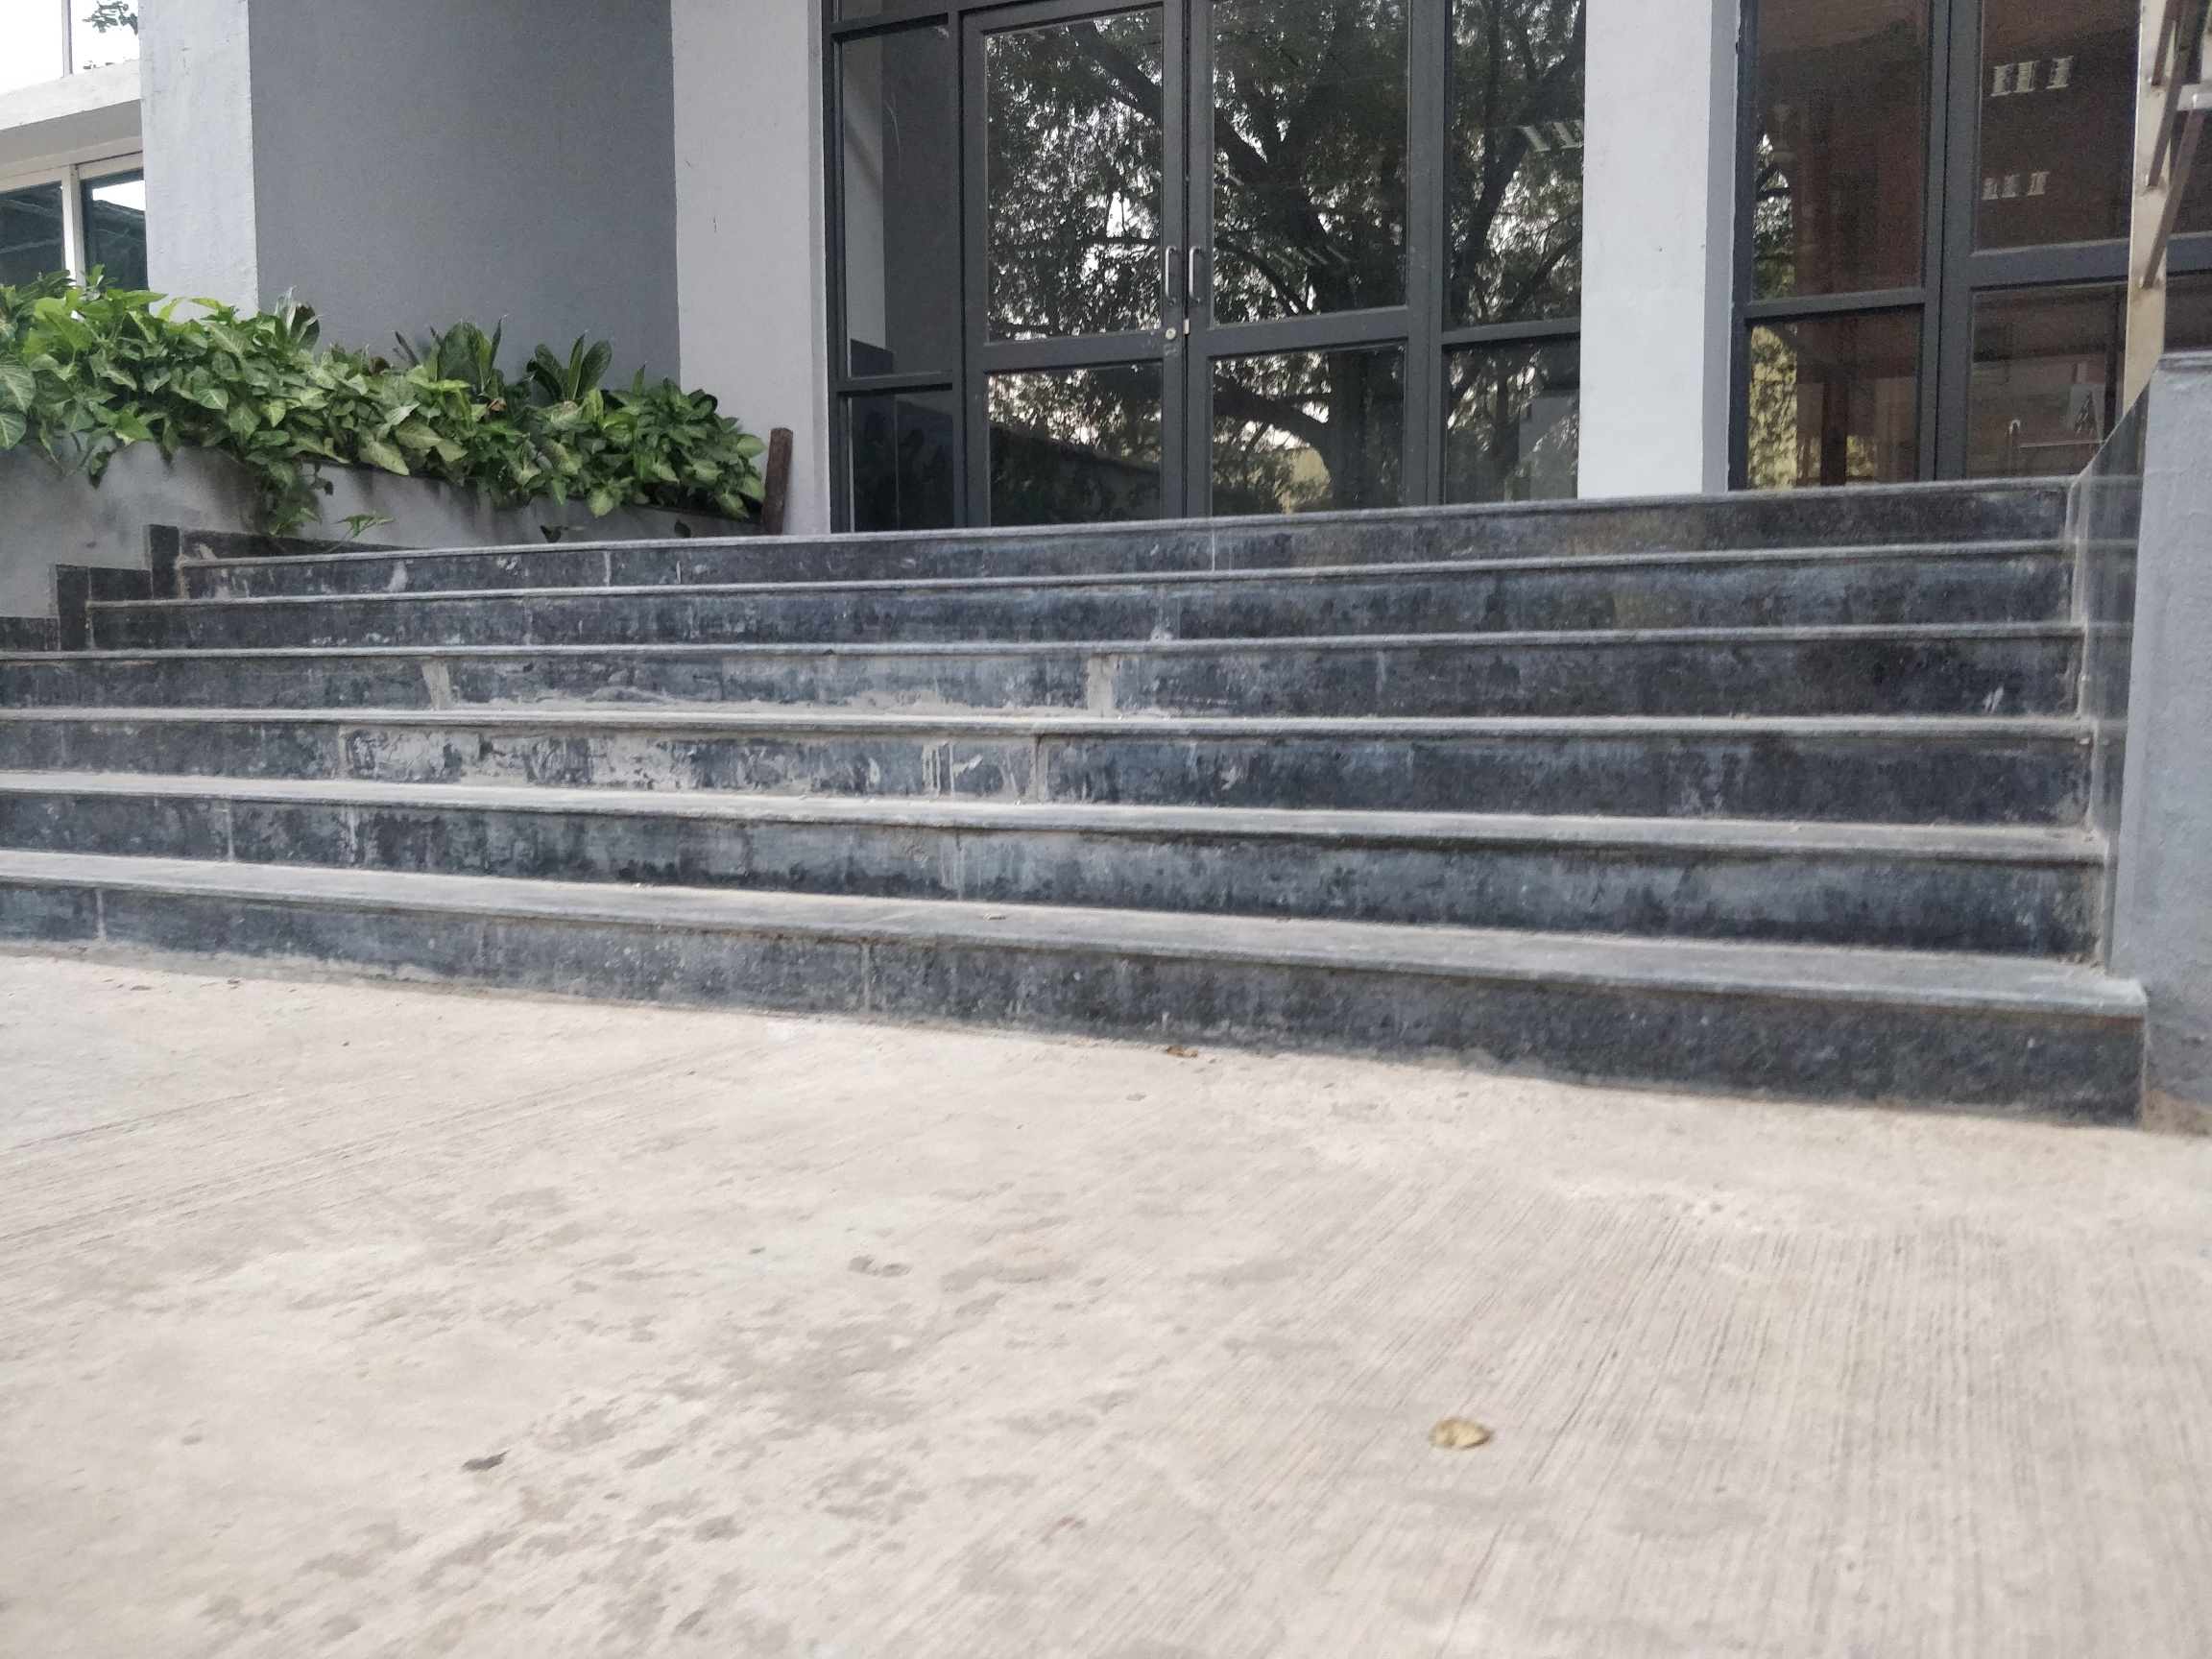stairs_up: (2, 464, 2125, 1105)
